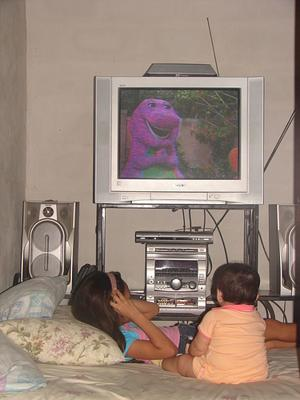person: (150, 259, 269, 386)
